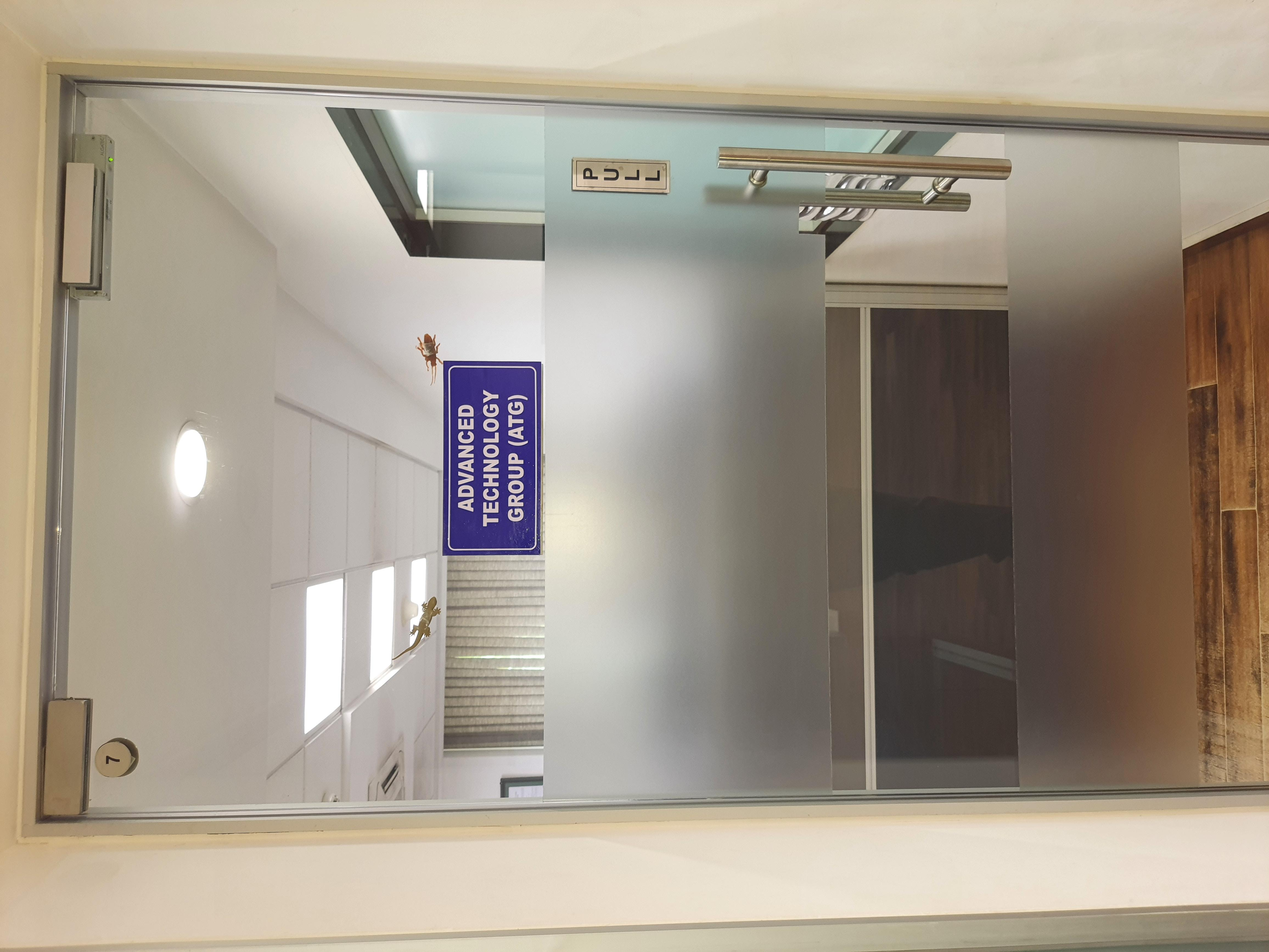cockroach: (751, 309, 861, 343)
lizard: (367, 280, 492, 336)
